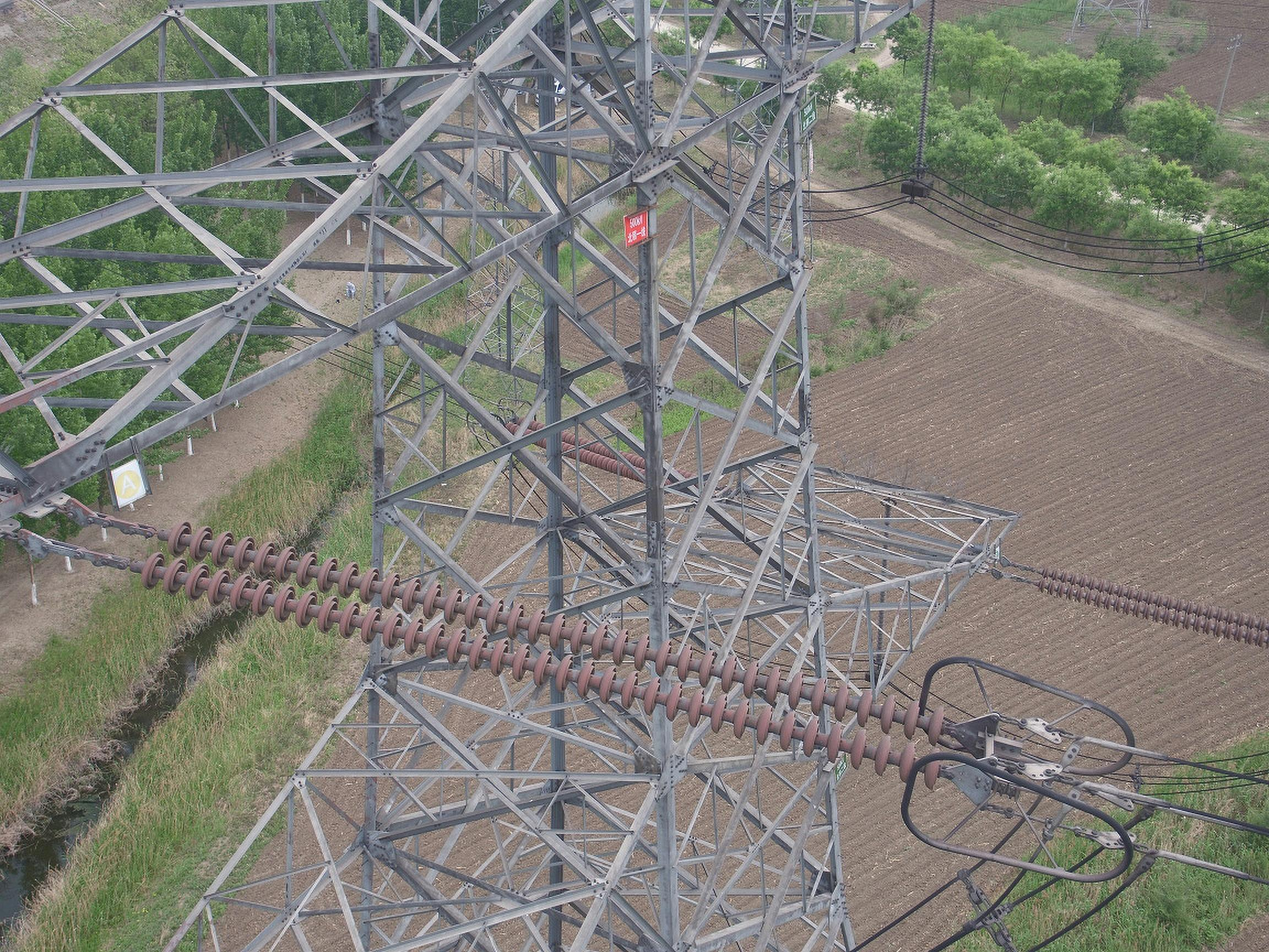insulator: (137, 517, 952, 793), (1035, 565, 1269, 650), (504, 414, 698, 490), (913, 1, 939, 169)
